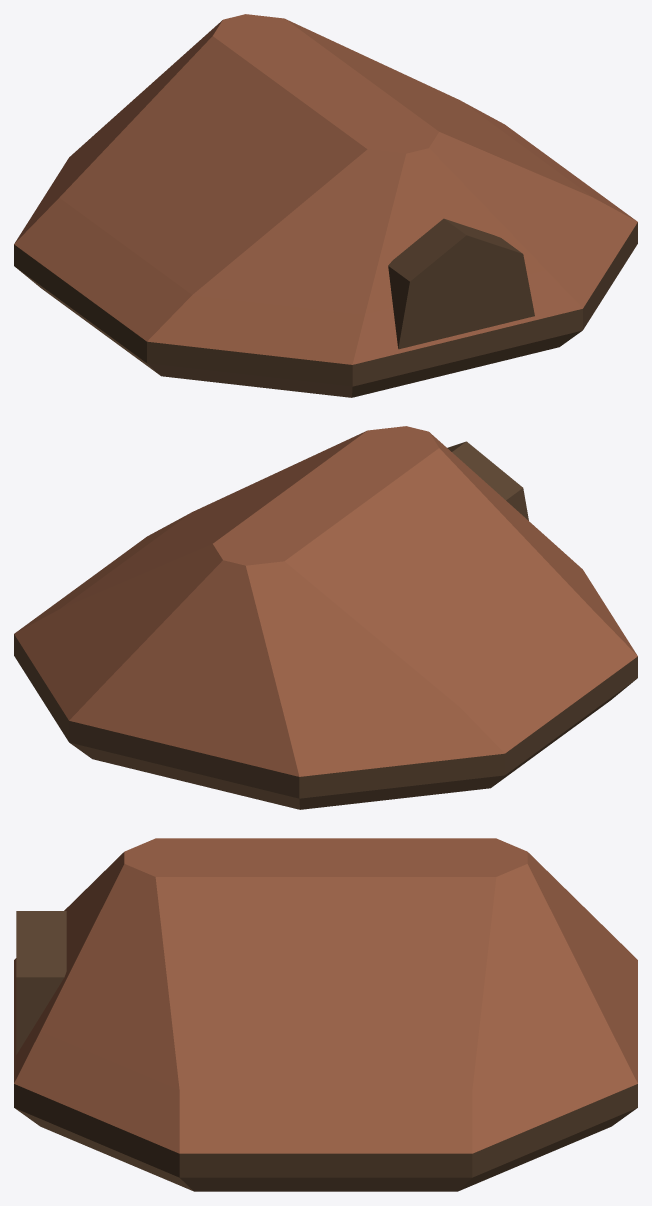
Rendered from turning_cap.glb.
3 renders of one model, top to bottom at view 1: azimuth 30°, elevation 25°; view 2: azimuth 150°, elevation 25°; view 3: azimuth 270°, elevation 25°, orthographic. The views are drawn at different scales.
Parts seen in each view (by area): view 1: Turning cap; view 2: Turning cap; view 3: Turning cap.
Boxes of the visible parts, left/top/right/bottom form: Turning cap: left=14, top=14, right=637, bottom=397; Turning cap: left=14, top=426, right=637, bottom=809; Turning cap: left=14, top=838, right=637, bottom=1191.
Bounding box in the file's own units: 2.6 × 0.98 × 2.6.
